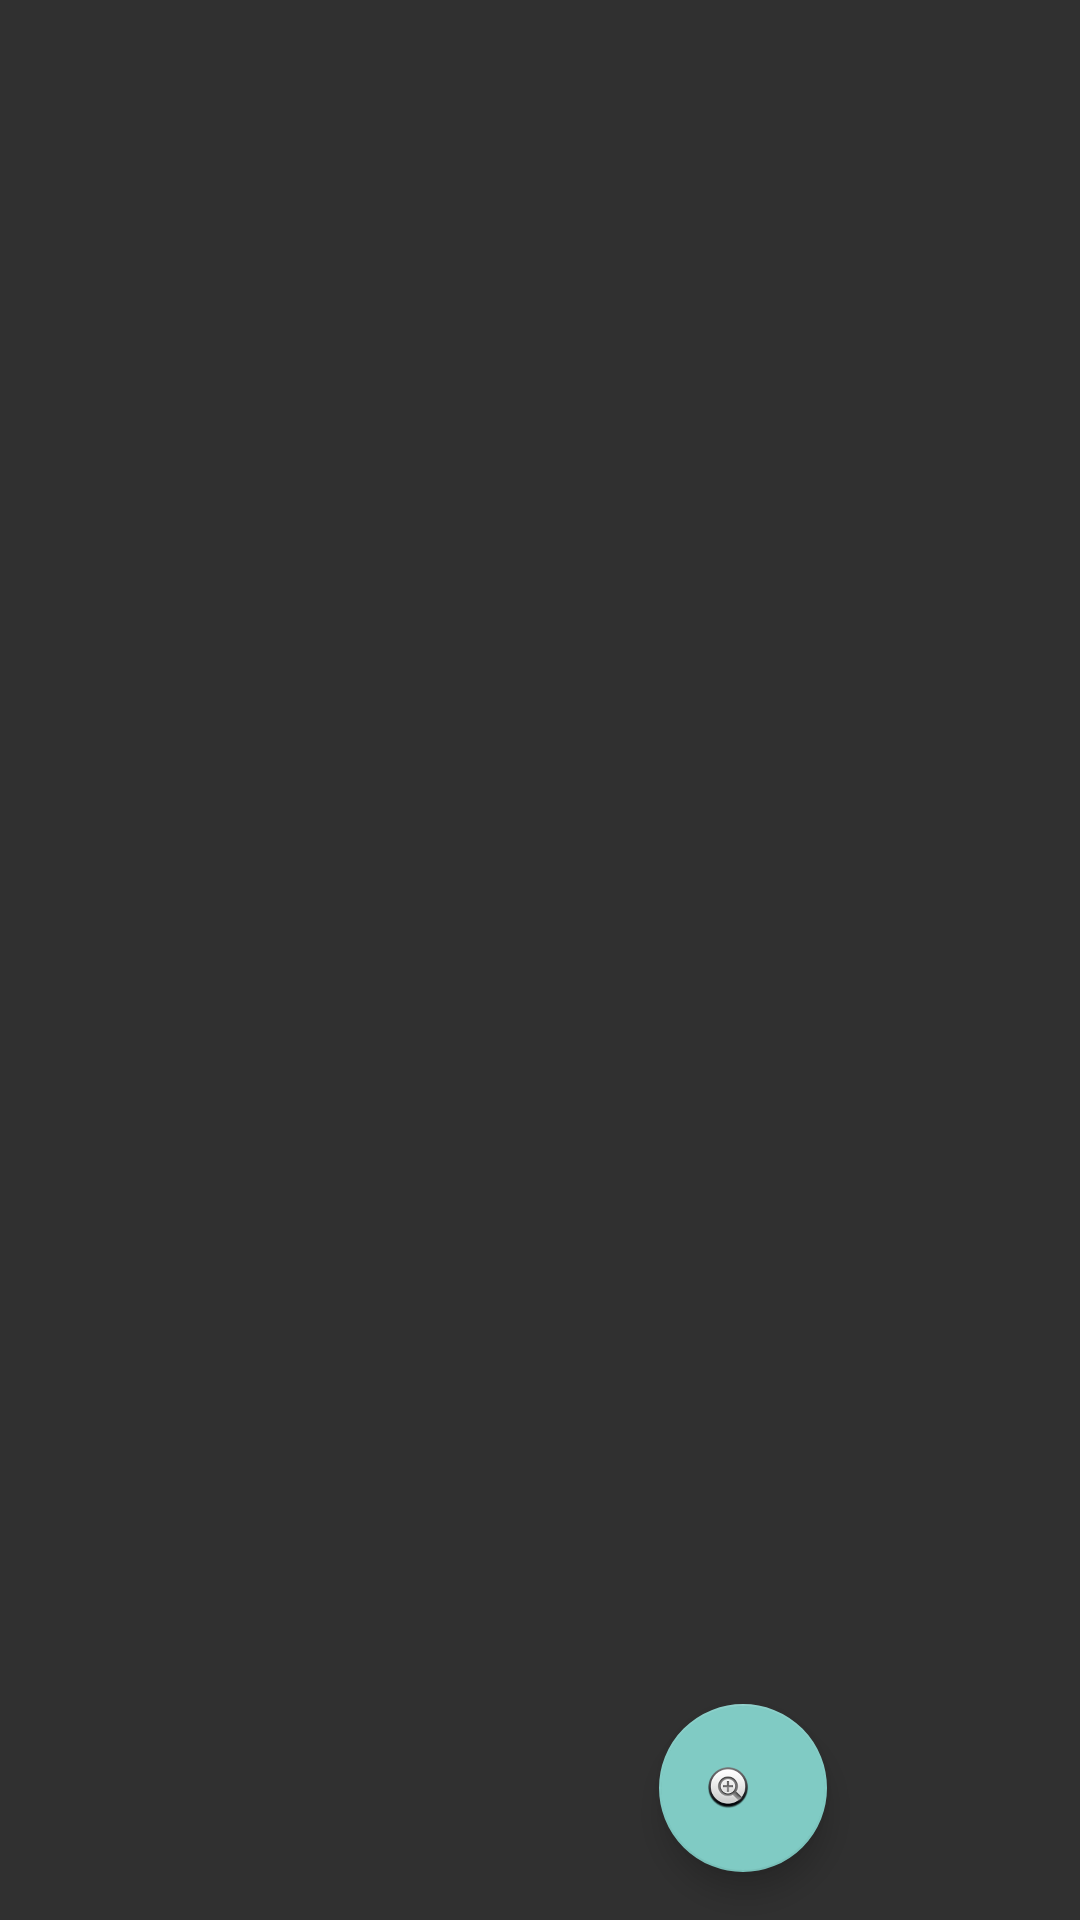

Icons on this 1080w x 1920h Android screen, each with the point to tap as [x,y]:
plus: [743,1788]
